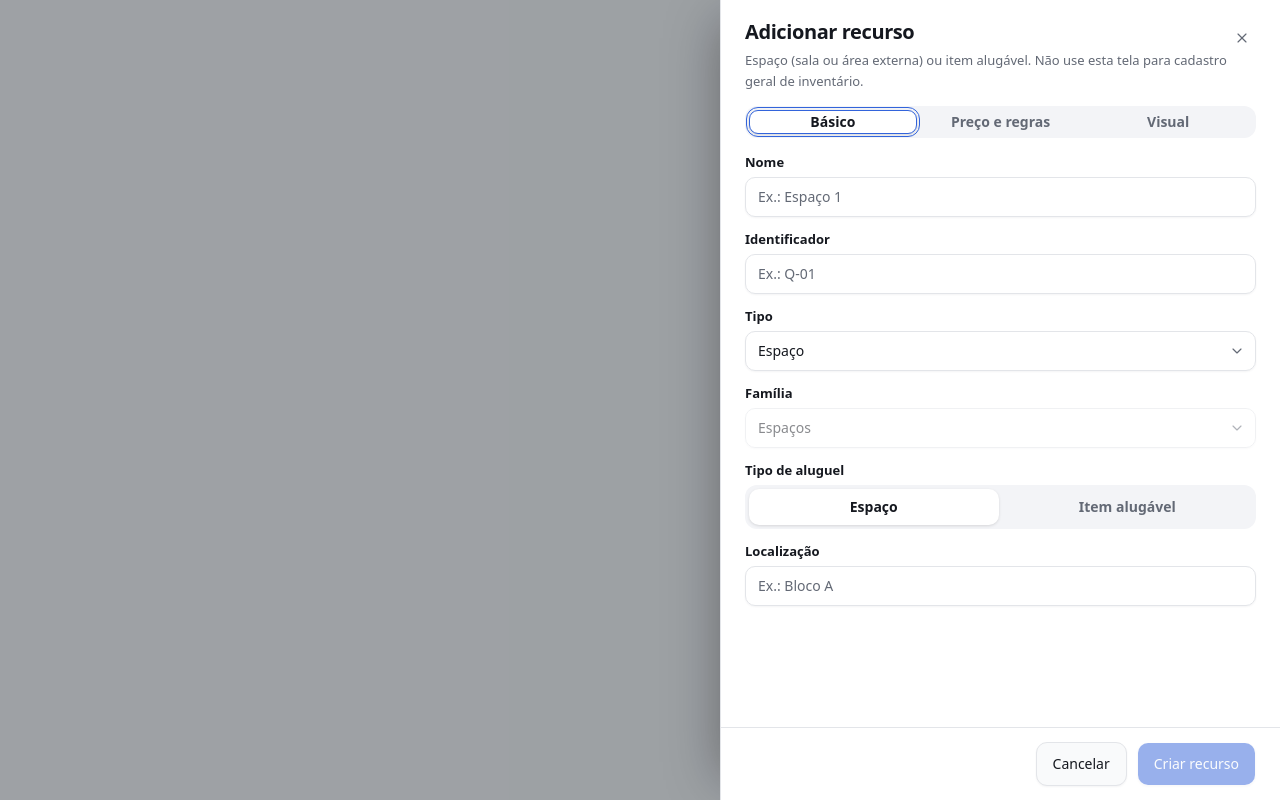
RentalResourceSheet visual validation › links the empty queue opening time error after blur and removes it when corrected
The image size is (1280, 800).
Step 1. Click the tab "Visual" → point(1168, 122), box [1084,110,1252,134]
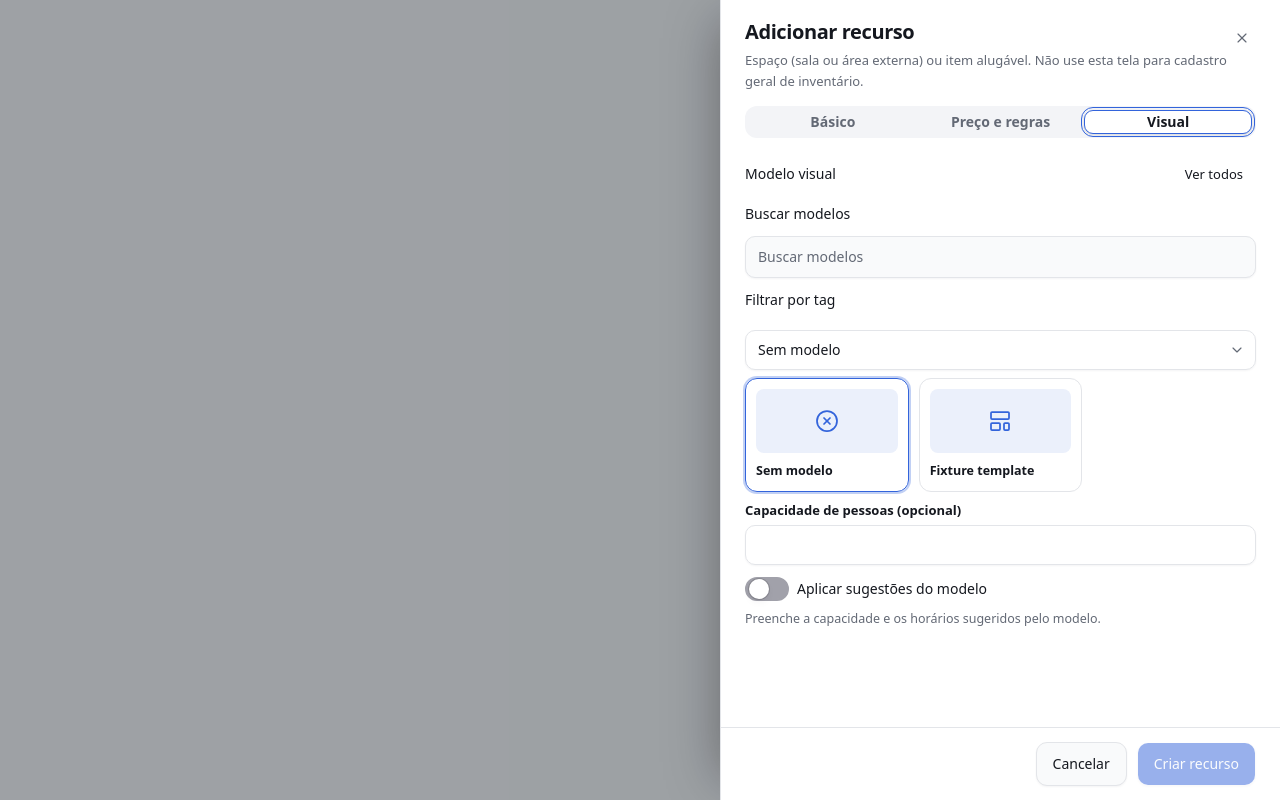
Step 2. Click the tab "Preço e regras" → point(1001, 122), box [917,110,1084,134]
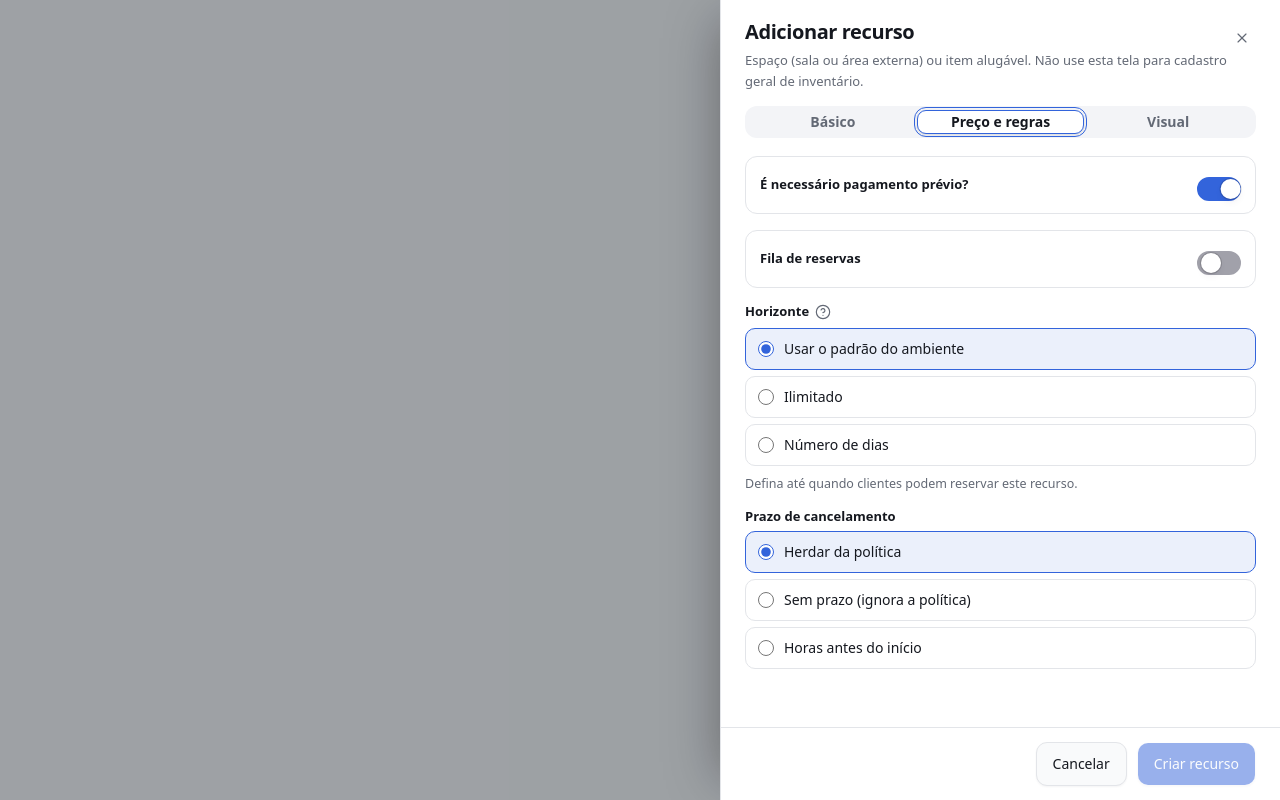
Step 3. Click the switch named "Fila de reservas" in the row of "Fila de reservas" → point(1219, 263), box [1197,251,1241,275]
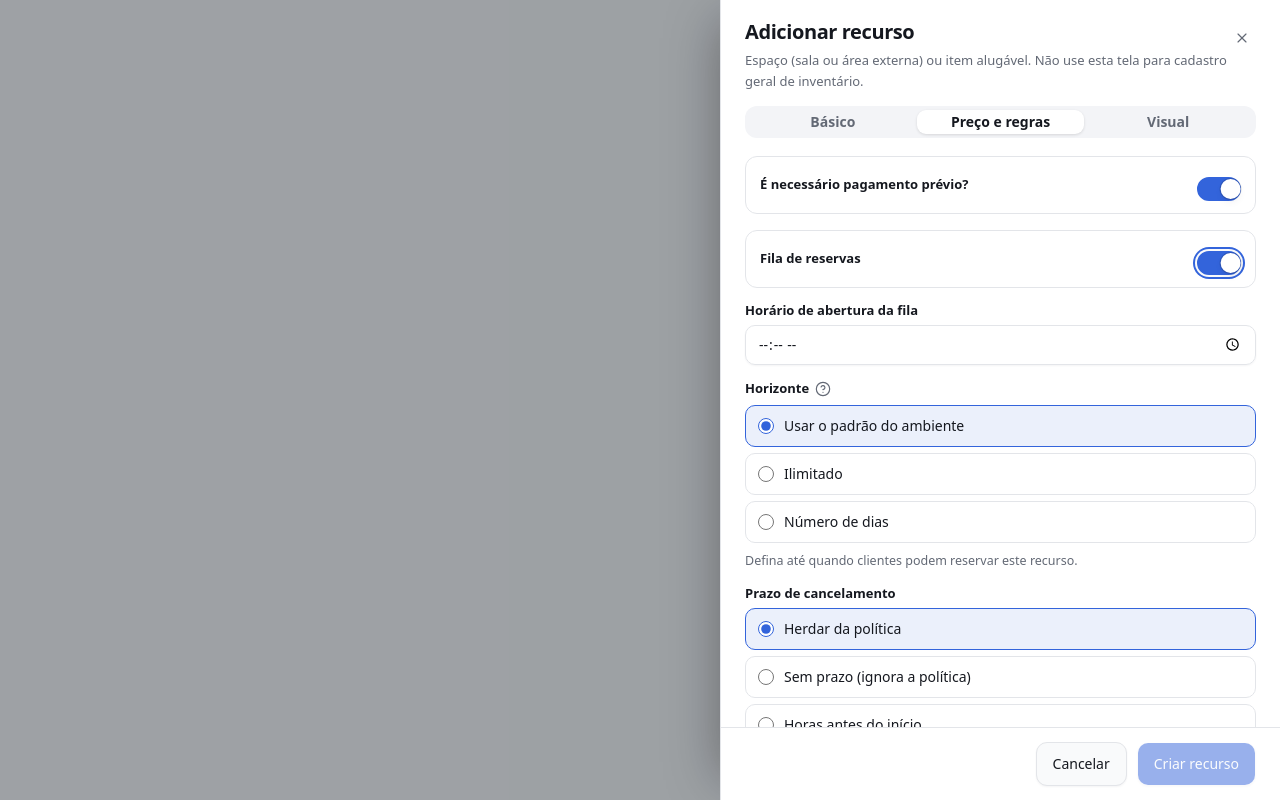
Expected: the text "Informe o horário de abertura da fila." is not shown
Step 4. Click the time field labelled "Horário de abertura da fila" → point(1000, 345), box [745,325,1256,365]
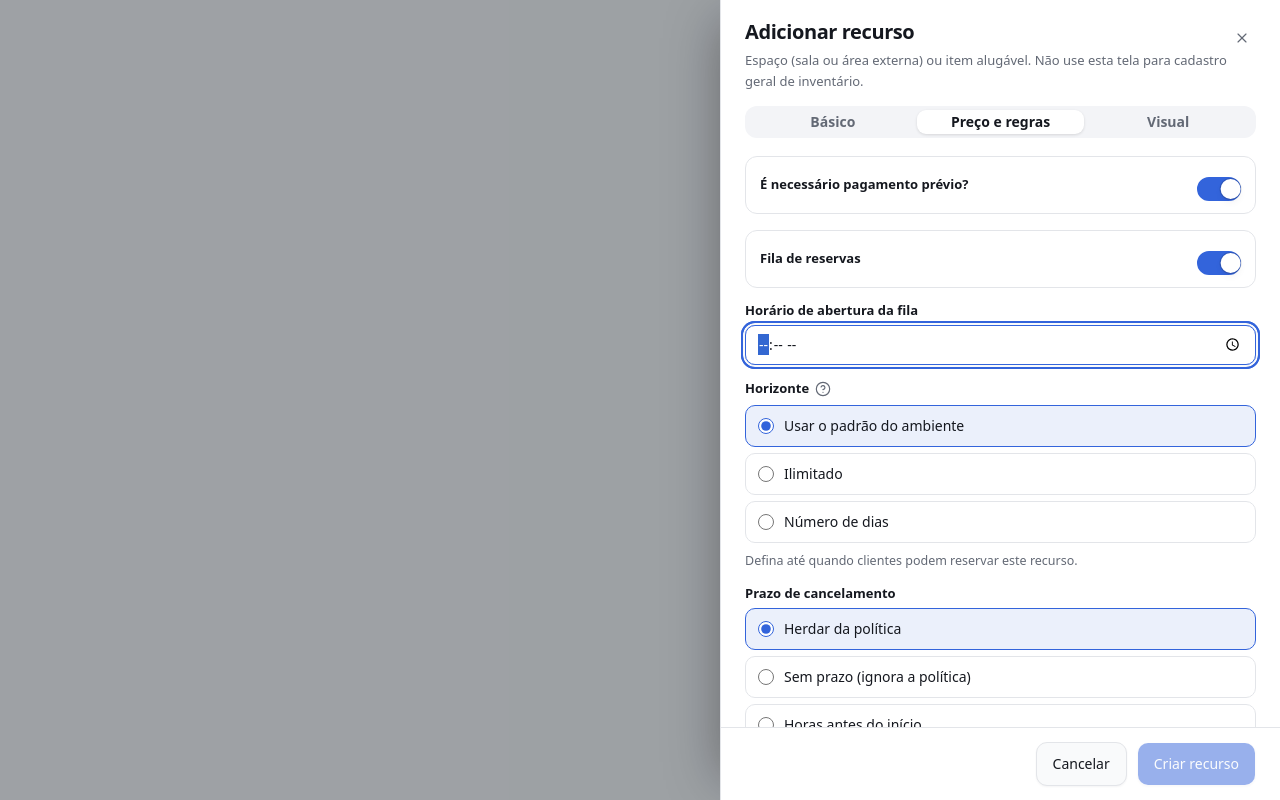
Step 5. Press Tab
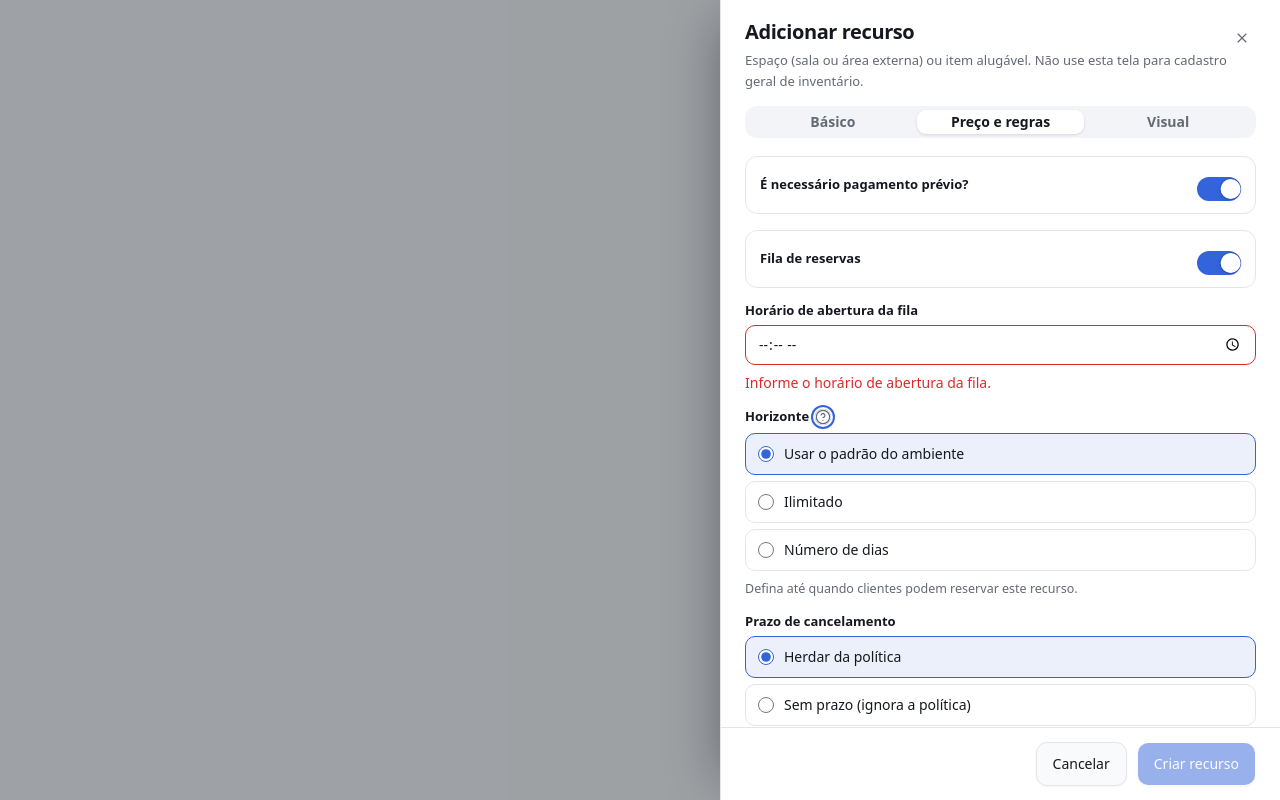
Result: the time field labelled "Horário de abertura da fila" is marked as invalid
Step 6. Type "09:00" into the time field labelled "Horário de abertura da fila" → point(1000, 345), box [745,325,1256,365]
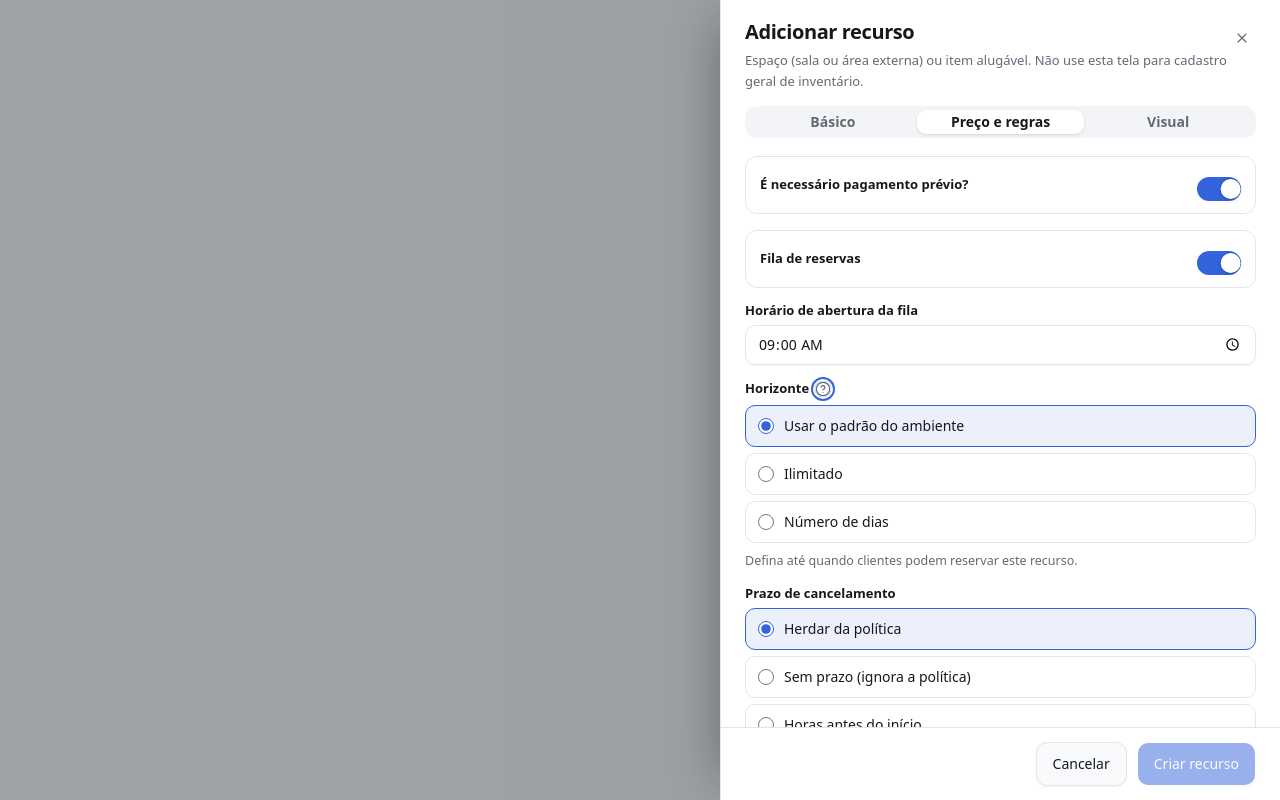
Result: the text "Informe o horário de abertura da fila." is gone
